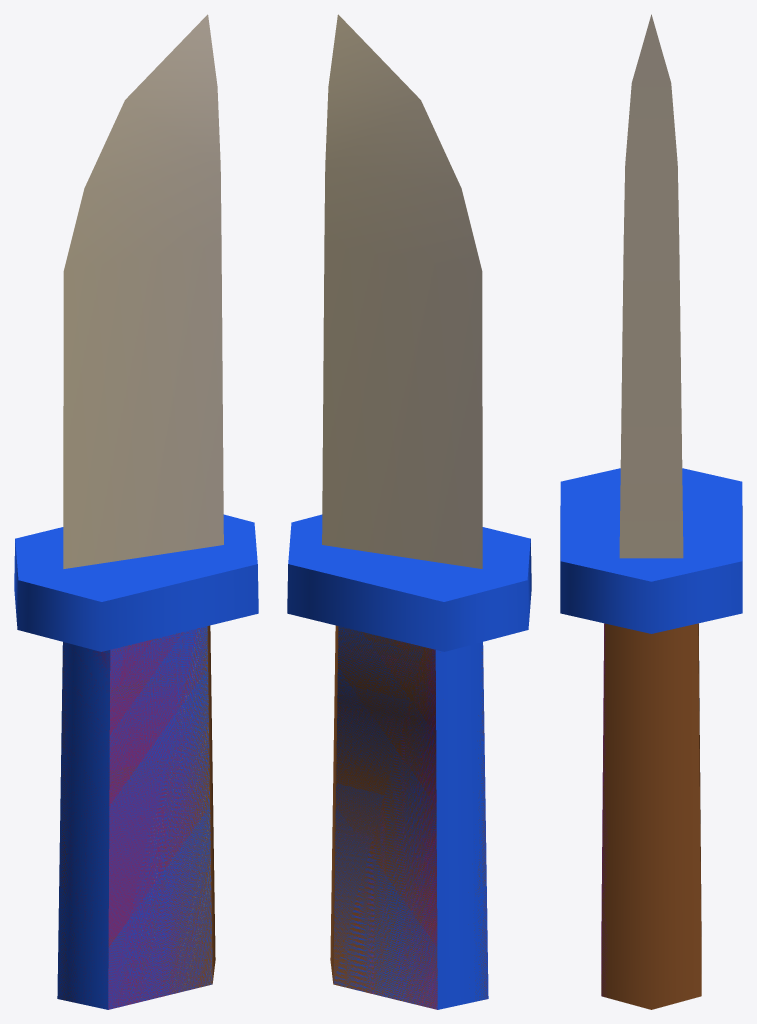
The model's file is Nightmare_knife.fbx.
3 renders of one model, left to right at view 1: azimuth 30°, elevation 25°; view 2: azimuth 150°, elevation 25°; view 3: azimuth 270°, elevation 25°, orthographic. The views are drawn at different scales.
Parts seen in each view (by area): view 1: Nightmare_knife_03, Nightmare_knife_05, Nightmare_knife_04; view 2: Nightmare_knife_03, Nightmare_knife_04, Nightmare_knife_05, Nightmare_knife_01; view 3: Nightmare_knife_03, Nightmare_knife_04, Nightmare_knife_05.
Part boxes in pixels (x1,y1,x2,y2): Nightmare_knife_03: (14, 14, 258, 1009); Nightmare_knife_05: (60, 627, 210, 1009); Nightmare_knife_04: (59, 625, 215, 1005); Nightmare_knife_03: (287, 14, 531, 1009); Nightmare_knife_04: (330, 625, 487, 1009); Nightmare_knife_05: (351, 649, 487, 1009); Nightmare_knife_01: (339, 642, 435, 1006); Nightmare_knife_03: (560, 14, 742, 699); Nightmare_knife_04: (601, 623, 701, 1009); Nightmare_knife_05: (601, 623, 608, 996).
Bounding box in the file's own units: 14.29 × 54.37 × 9.07.
